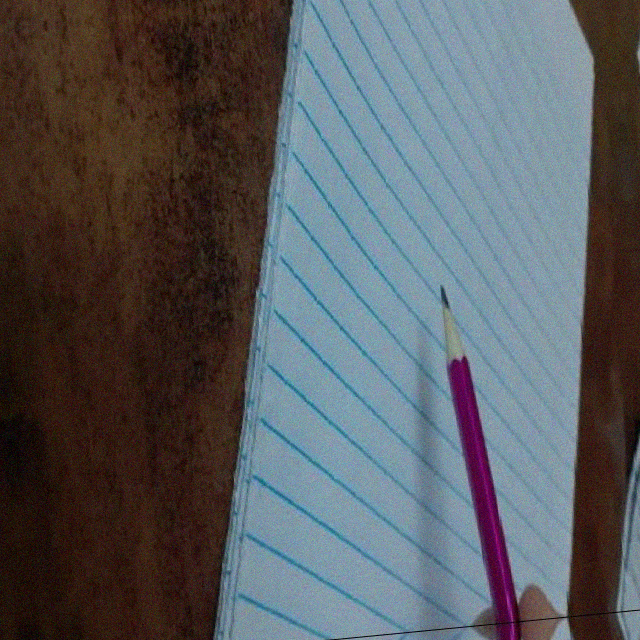pencil: (432, 280, 472, 362)
